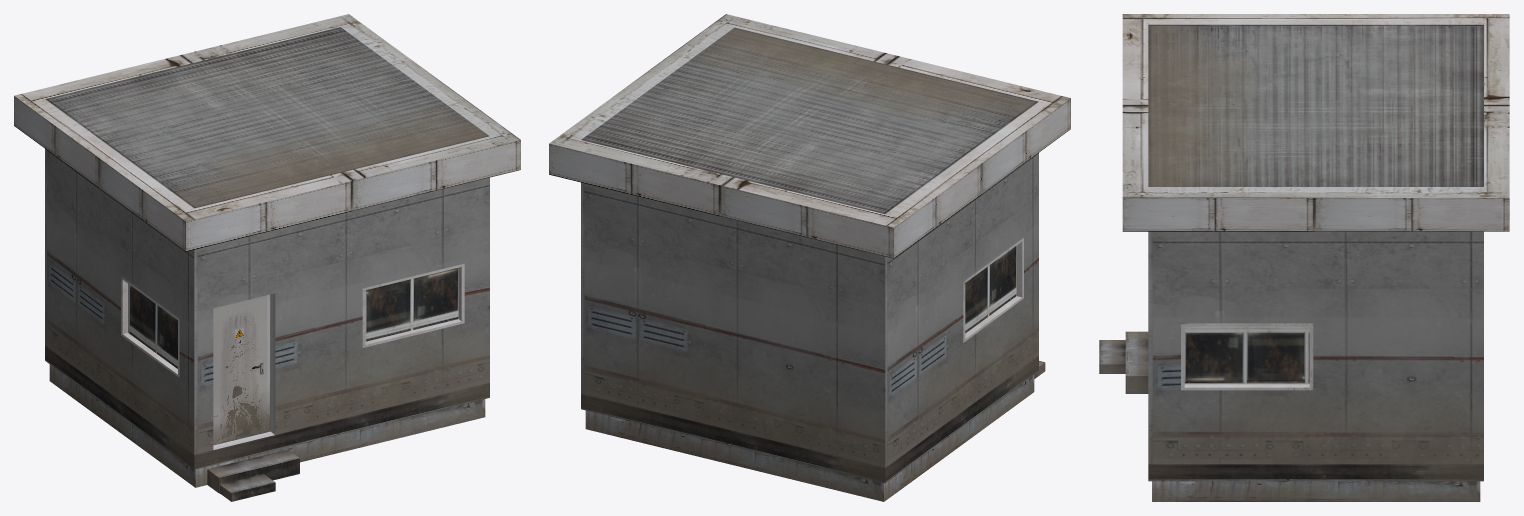
File: dz_industrial_15.fbx
The picture shows the model from 3 angles, left to right: view 1: azimuth 30°, elevation 25°; view 2: azimuth 150°, elevation 25°; view 3: azimuth 270°, elevation 25°; orthographic projection. The views are drawn at different scales.
Parts seen in each view (by area): view 1: dz_industrial_15_LOD0; view 2: dz_industrial_15_LOD0; view 3: dz_industrial_15_LOD0.
Part boxes in pixels (x1,y1,x2,y2): dz_industrial_15_LOD0: (14, 14, 520, 501); dz_industrial_15_LOD0: (549, 14, 1070, 501); dz_industrial_15_LOD0: (1099, 14, 1509, 501).
Size of what is drawn, in the model's own units: 4.9 by 3.93 by 4.62.
